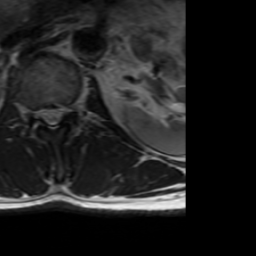CCS_normal: (48, 97, 56, 136)
LFS_stenosis: (65, 95, 74, 121)
LLS_normal: (56, 97, 65, 130)
RFS_normal: (30, 99, 39, 127)
RLS_normal: (39, 97, 48, 130)
